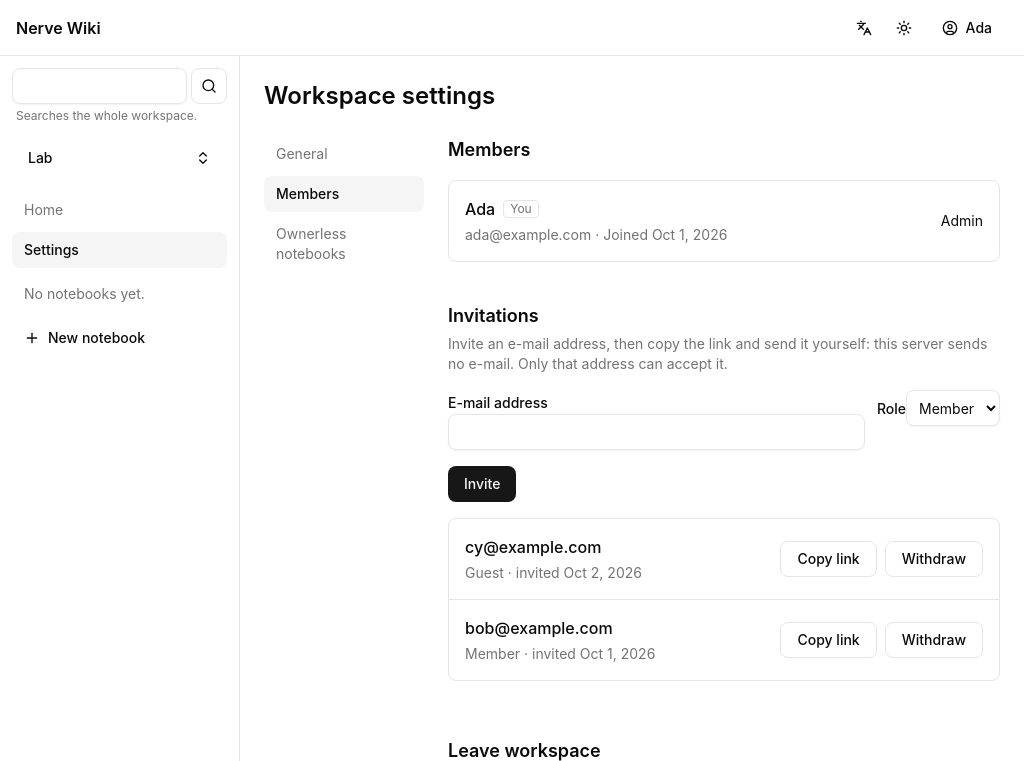
where the browser refuses to copy, the link shows in a field, selected; copied after all, it goes
Click the button with aria-label "Copy link: bob@example.com" at x=829, y=640, box x1=780 y1=622 x2=877 y2=658
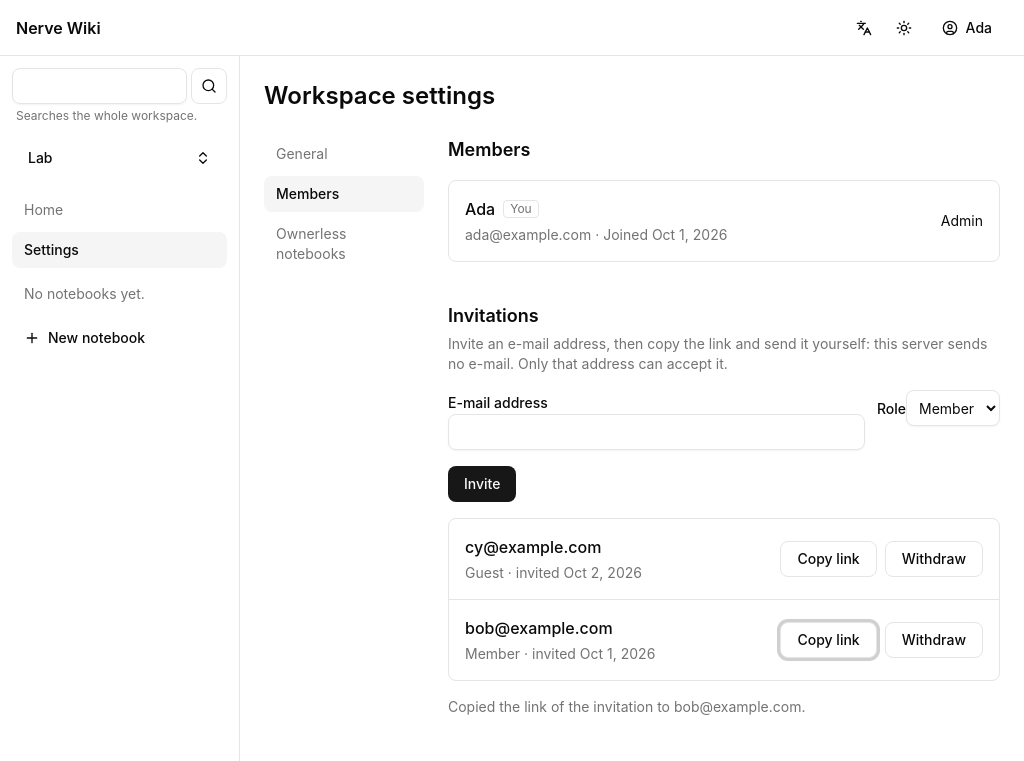
Result: the text "Copied the link of the invitation to bob@example.com." is shown at x1=448 y1=698 x2=806 y2=715
Click the button with aria-label "Copy link: cy@example.com" at x=829, y=559, box x1=780 y1=541 x2=877 y2=577
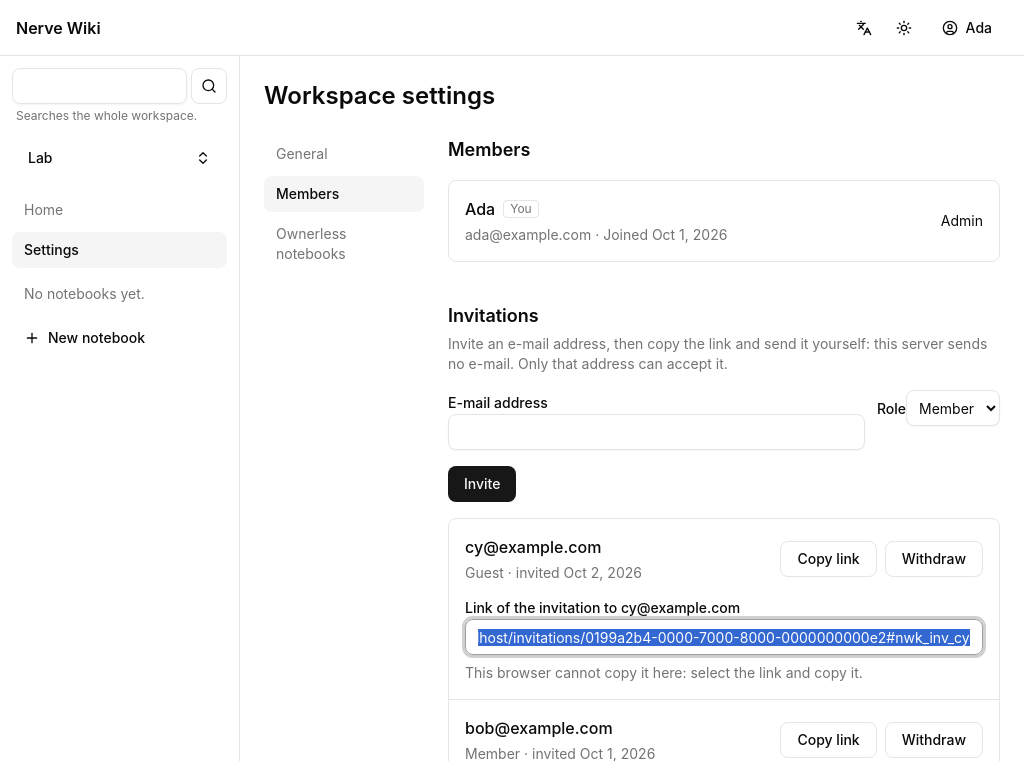
Result: the text "Copied" is gone
Click the button with aria-label "Copy link: cy@example.com" at x=829, y=559, box x1=780 y1=541 x2=877 y2=577
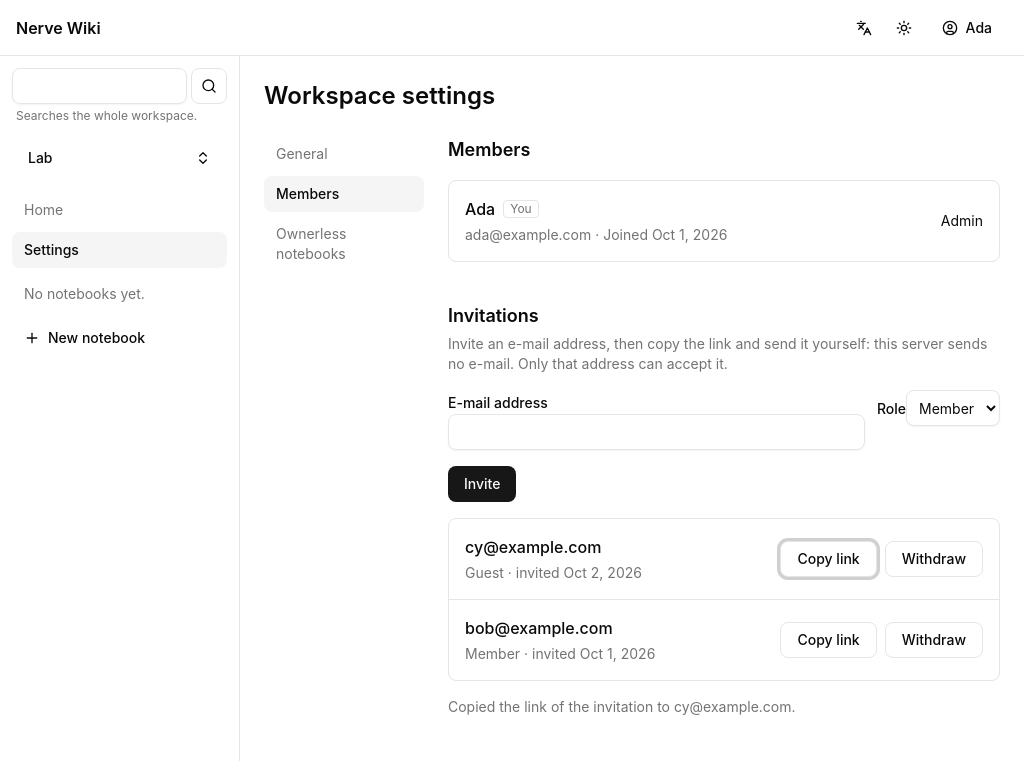
Result: the text "Copied the link of the invitation to cy@example.com." is shown at x1=448 y1=698 x2=796 y2=715
